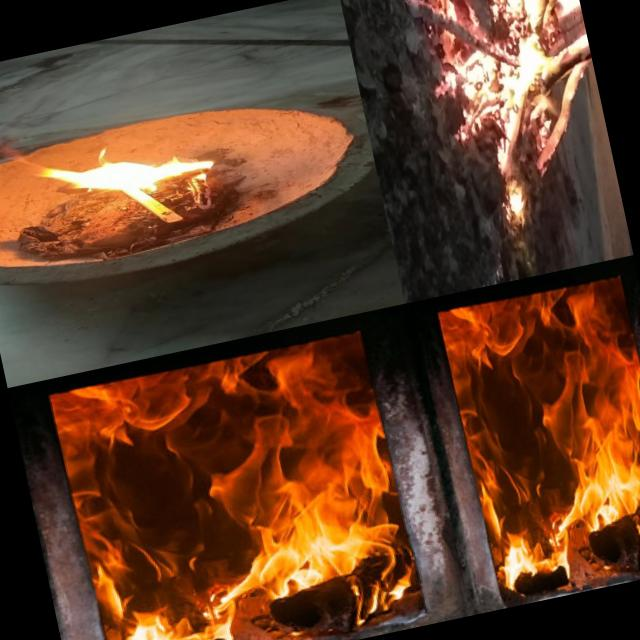fire: (46, 332, 421, 640), (437, 276, 640, 604), (440, 0, 633, 281), (15, 101, 234, 232)
